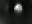person: (15, 4, 24, 16)
